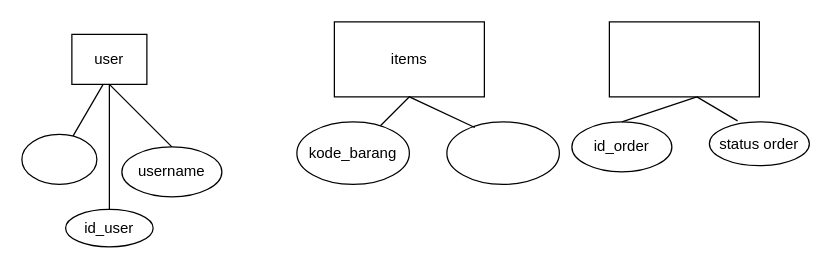
This 831x269 diagram has some shape labels left out. The centre of each missing label's shape, as x and y in pixels:
"email" goes at pixel 59 158.
"nama barang" goes at pixel 502 152.
"order" goes at pixel 683 59.
